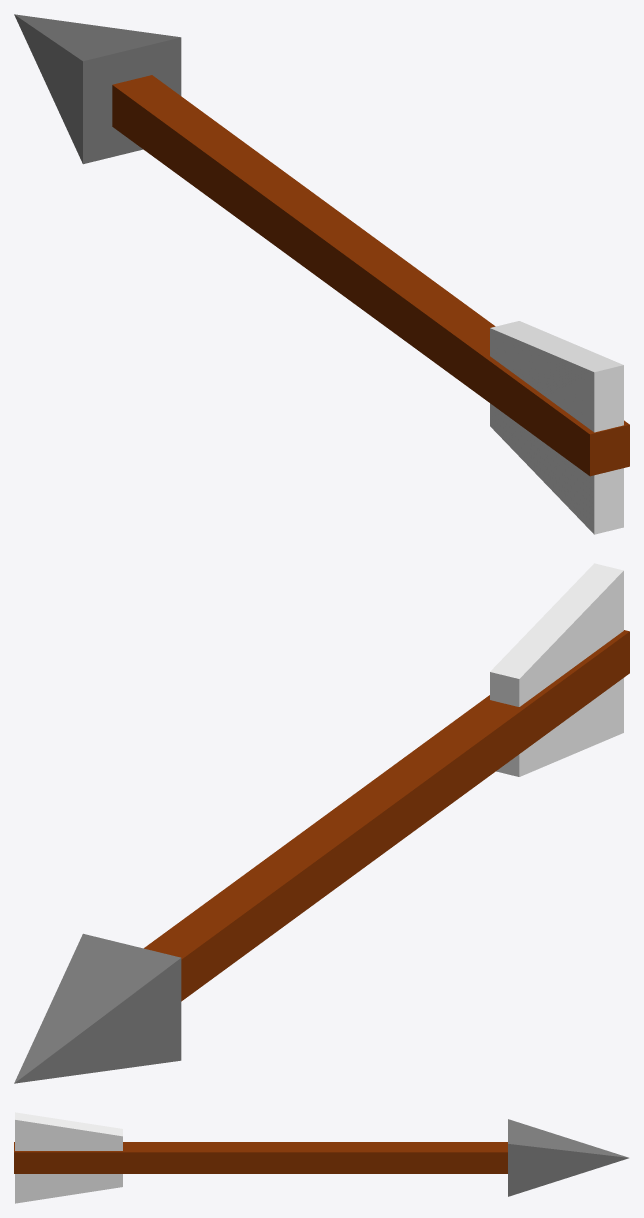
Rendered from Arrow.fbx.
The picture shows the model from 3 angles, top to bottom: view 1: azimuth 30°, elevation 25°; view 2: azimuth 150°, elevation 25°; view 3: azimuth 270°, elevation 25°; orthographic projection. The views are drawn at different scales.
Parts seen in each view (by area): view 1: pCube1, pasted__pCube1, pasted__pCube2; view 2: pCube1, pasted__pCube2, pasted__pCube1; view 3: pCube1, pasted__pCube1, pasted__pCube2.
Boxes of the visible parts, x1=… form: pCube1: x1=112, y1=75, x2=629, y2=476; pasted__pCube1: x1=490, y1=321, x2=623, y2=534; pasted__pCube2: x1=14, y1=14, x2=181, y2=164; pCube1: x1=144, y1=630, x2=629, y2=1001; pasted__pCube2: x1=14, y1=933, x2=181, y2=1083; pasted__pCube1: x1=490, y1=563, x2=623, y2=776; pCube1: x1=14, y1=1142, x2=507, y2=1173; pasted__pCube1: x1=15, y1=1112, x2=122, y2=1203; pasted__pCube2: x1=508, y1=1119, x2=628, y2=1196.
Size of the model in its own units: 0.3814 by 0.6015 by 4.
